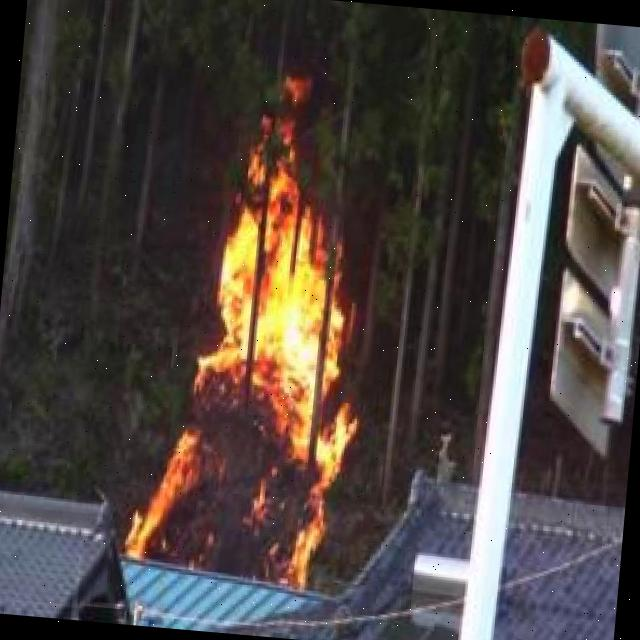fire: (138, 98, 379, 580)
